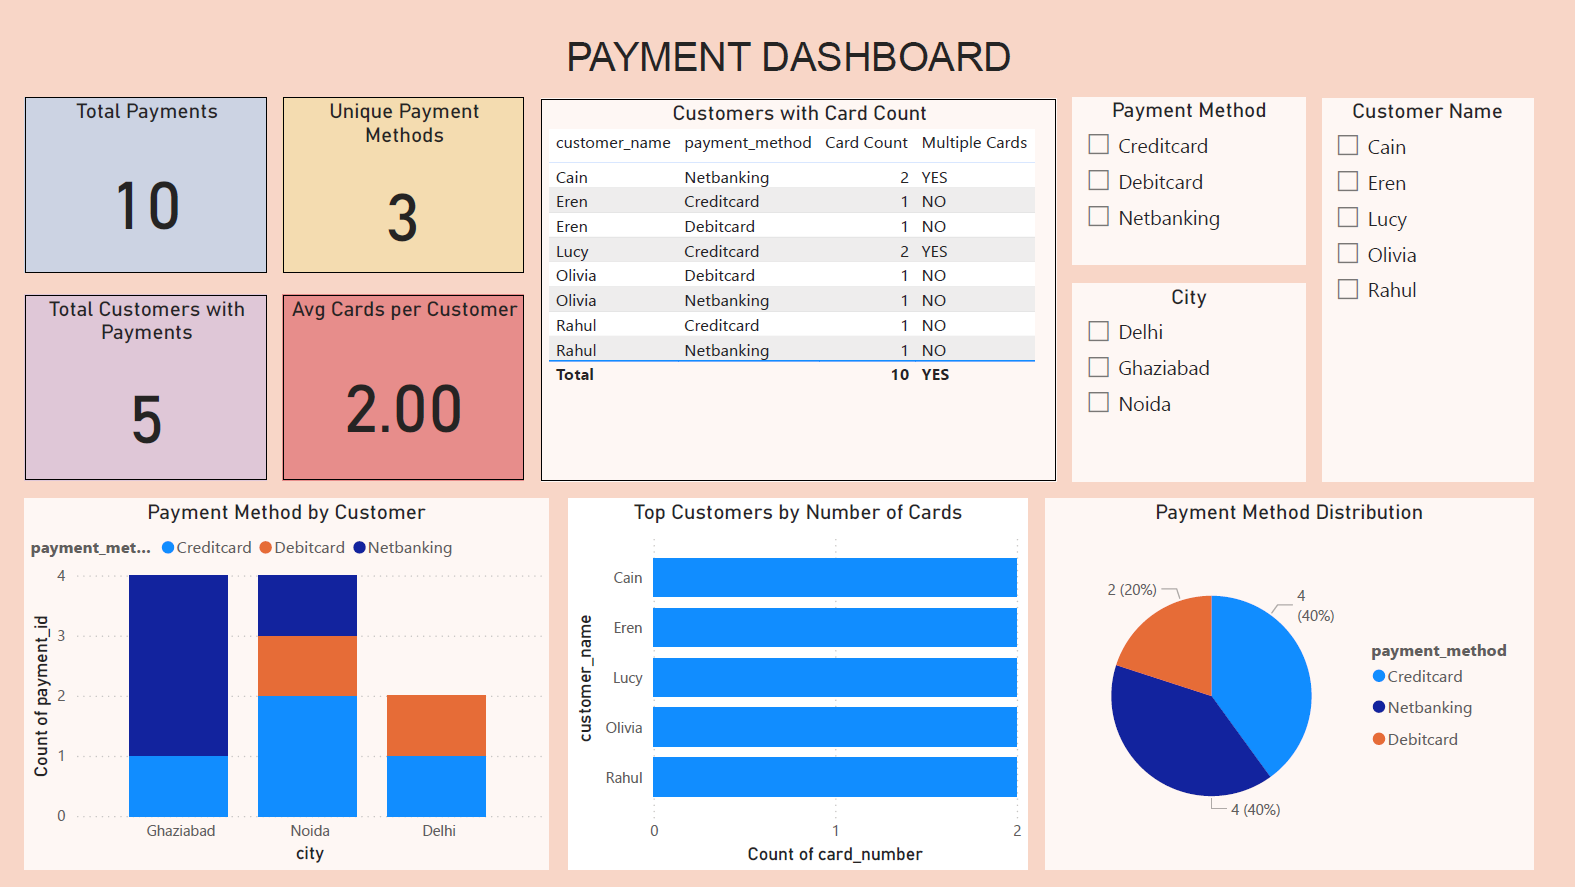

This screenshot's page, from the dashboard's own definition file:
{"tool":"powerbi","page":{"name":"Payment","canvas":[1280,720],"ordinal":2},"visuals":[{"type":"card","title":"Total Payments","fields":{"Values":["onlineretail payment.payment_id"]},"box":[20.8,79.1,195.7,141.6],"z":0},{"type":"card","title":"Total Customers with Payments","fields":{"Values":["onlineretail payment.customer_id"]},"box":[20.8,238.8,195.7,149.9],"z":1},{"type":"card","title":"Unique Payment Methods","fields":{"Values":["onlineretail payment.payment_method"]},"box":[230.5,79.1,194.4,141.6],"z":2},{"type":"card","title":"Avg Cards per Customer","fields":{"Values":["onlineretail customer.Avg Cards Per Customer"]},"box":[230.5,238.8,194.4,149.9],"z":3},{"type":"pieChart","title":"Payment Method Distribution","fields":{"Y":["onlineretail payment.payment_id"],"Category":["onlineretail payment.payment_method"]},"box":[847.5,404,395,299.9],"z":4},{"type":"textbox","box":[445.6,23.6,387.3,51.4],"z":5},{"type":"columnChart","title":"Payment Method by Customer","fields":{"Category":["onlineretail shippingdetails.city"],"Y":["onlineretail payment.payment_id"],"Series":["onlineretail payment.payment_method"]},"box":[20.6,404,424.6,299.9],"z":6},{"type":"tableEx","title":"Customers with Card Count","fields":{"Values":["onlineretail customer.customer_name","onlineretail payment.payment_method","onlineretail customer.Card Count","onlineretail customer.Multiple Cards"]},"box":[439,79.9,416.6,309.7],"z":7},{"type":"clusteredBarChart","title":"Top Customers by Number of Cards","fields":{"Category":["onlineretail customer.customer_name"],"Y":["onlineretail payment.card_number"]},"box":[460.5,404,372.6,299.9],"z":8},{"type":"slicer","title":"Payment Method","fields":{"Values":["onlineretail payment.payment_method"]},"box":[869,79,189.4,134.7],"z":9},{"type":"slicer","title":"City","fields":{"Values":["onlineretail shippingdetails.city"]},"box":[869,229.8,189.4,159.8],"z":10},{"type":"slicer","title":"Customer Name","fields":{"Values":["onlineretail customer.customer_name"]},"box":[1071,79.9,171.5,309.7],"z":11}]}

Visuals, with their boxes in screenshot pixels (x1, y1, x2, y2), scaled from the page's 1280x720 canvas onto the 1575x887 screenshot:
"Total Payments" card: Rect(26, 97, 266, 272)
"Total Customers with Payments" card: Rect(26, 294, 266, 479)
"Unique Payment Methods" card: Rect(284, 97, 523, 272)
"Avg Cards per Customer" card: Rect(284, 294, 523, 479)
"Payment Method Distribution" pieChart: Rect(1043, 498, 1529, 867)
textbox: Rect(548, 29, 1025, 92)
"Payment Method by Customer" columnChart: Rect(25, 498, 548, 867)
"Customers with Card Count" tableEx: Rect(540, 98, 1053, 480)
"Top Customers by Number of Cards" clusteredBarChart: Rect(567, 498, 1025, 867)
"Payment Method" slicer: Rect(1069, 97, 1302, 263)
"City" slicer: Rect(1069, 283, 1302, 480)
"Customer Name" slicer: Rect(1318, 98, 1529, 480)
